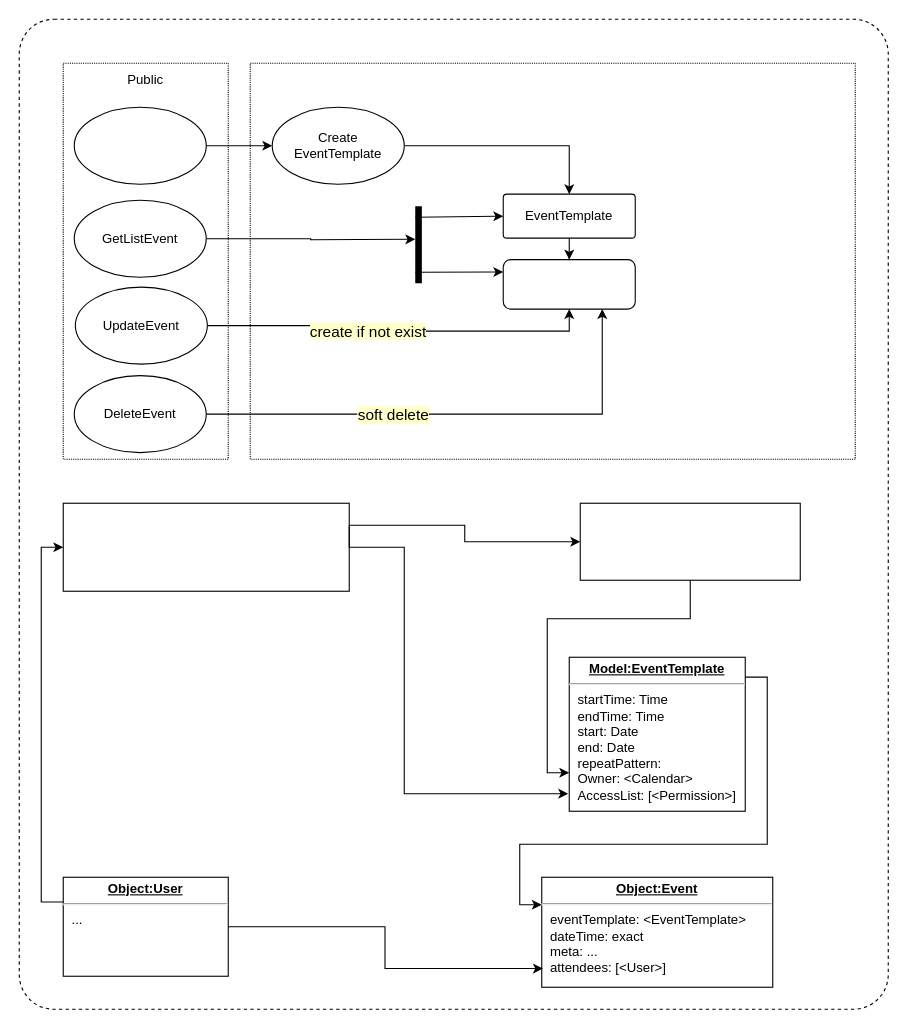
Some shapes in this 908 by 1029 pixel diagram are drawn without their labels. Here are the shapes that lost their labels. From the top down, the centre of each, then its label:
(139,145): Create Event
(568,283): Event
(205,546): Object:Profile User: ObjectID permission: ENUM ['editor', 'viewer']
(689,541): Calendar AccessList: [ <Permission> ] Title
